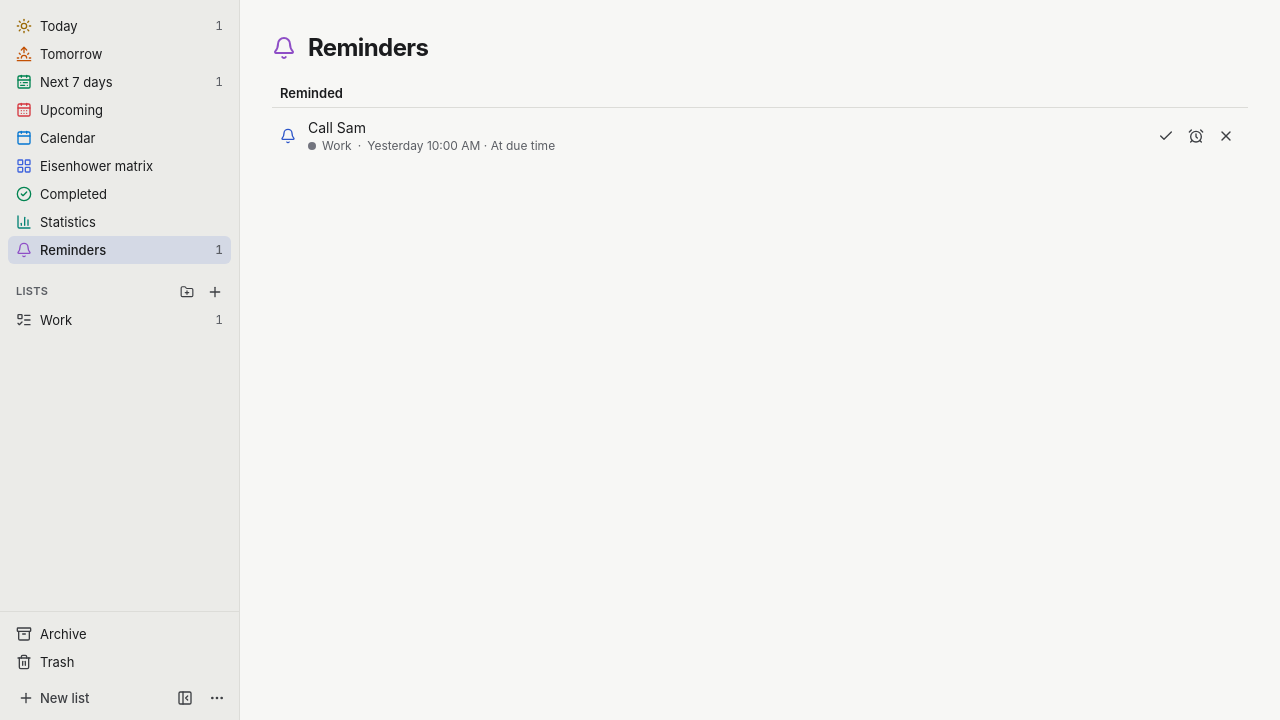
Test case: Reminders view › completes the task from its reminder
Click the button named "Complete". click: point(1166, 136)
box: [1152, 122, 1180, 150]
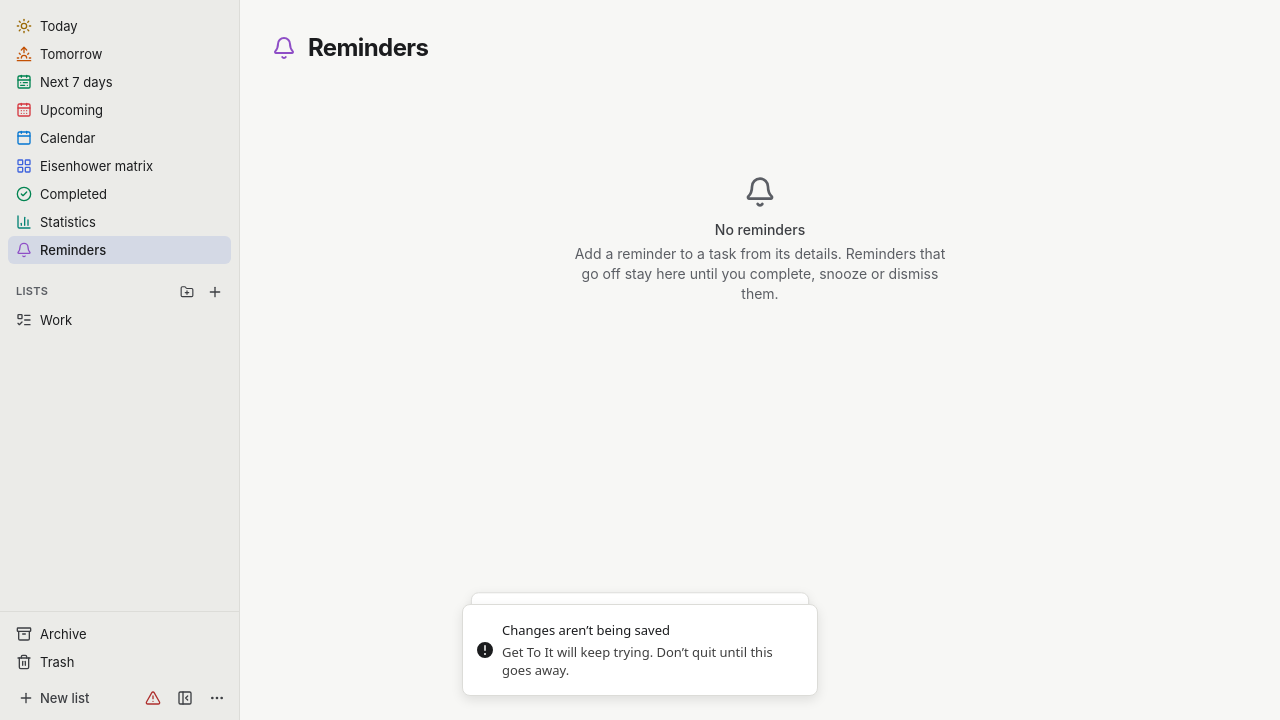
Result: the text "No reminders" is shown at [715, 220, 805, 240]
